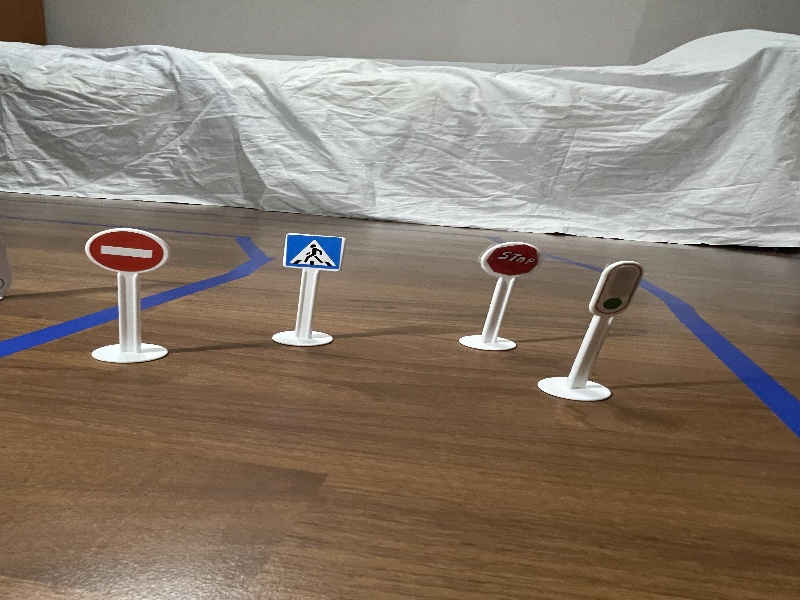interzis: (82, 216, 175, 276)
semafor_verde: (592, 247, 649, 327)
stop: (480, 235, 549, 284)
trecere_pietoni: (283, 224, 358, 281)
